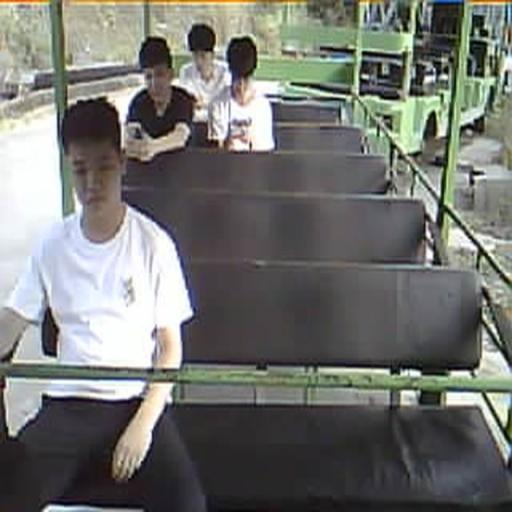persona: (0, 96, 206, 510), (124, 36, 197, 151), (206, 34, 276, 153), (178, 22, 233, 116)
